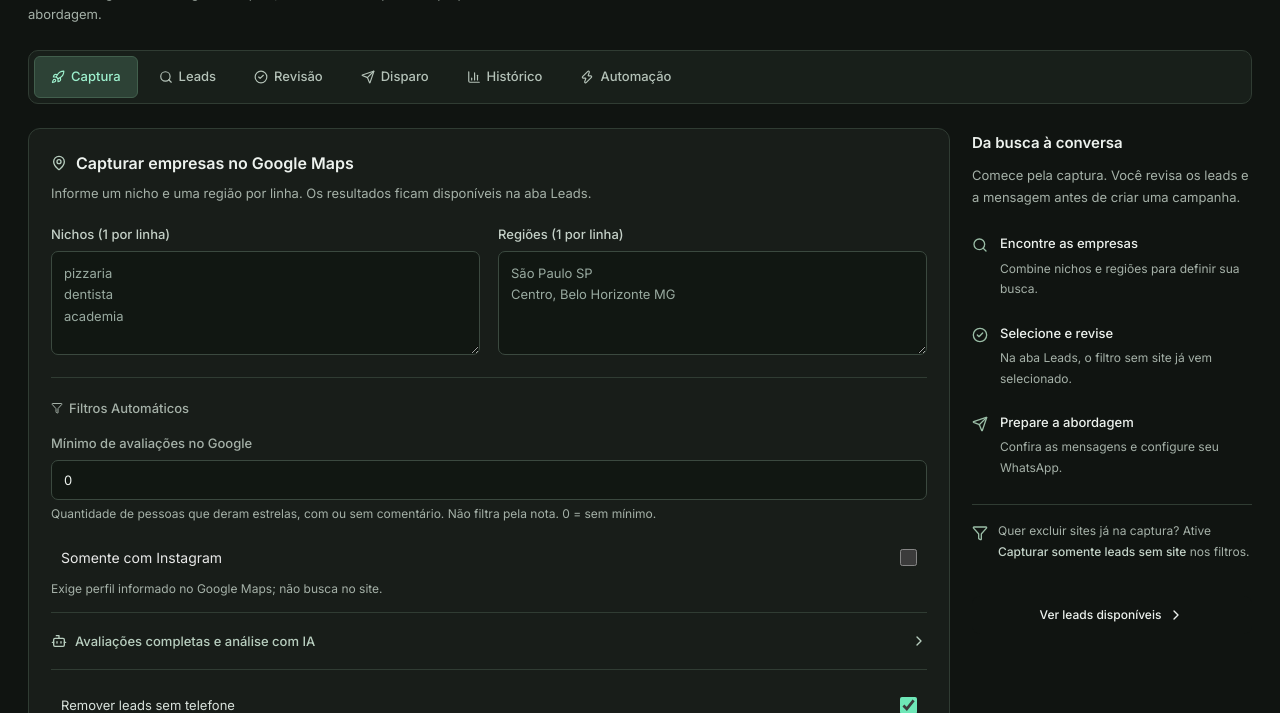
progresso e ações das automações na Prospecção Sites › oferece draft com 0 capturados como Iniciar
This screenshot has width=1280, height=713.
Click the button "Automação": (626, 77) [564,56,688,98]
(page scrolled)
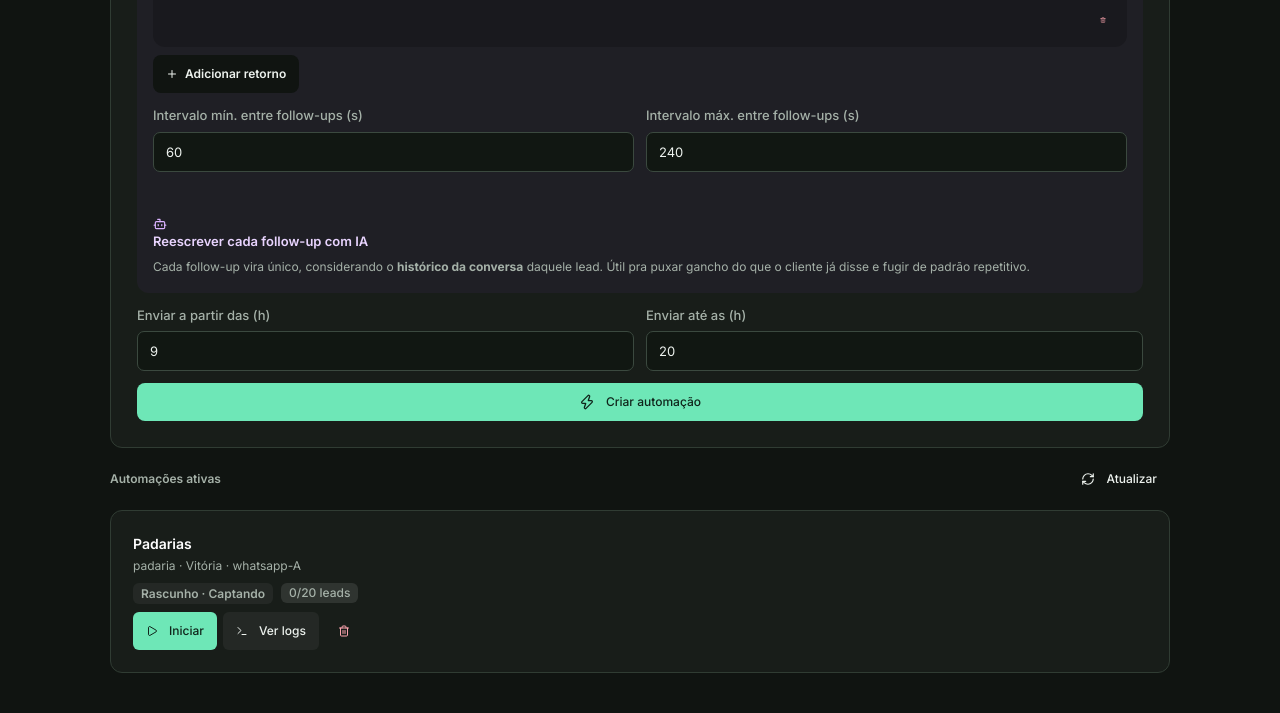
Expected: the text "Padarias" is shown, [133,535,192,552]
Expected: the button "Iniciar" is enabled, [133,612,217,650]
